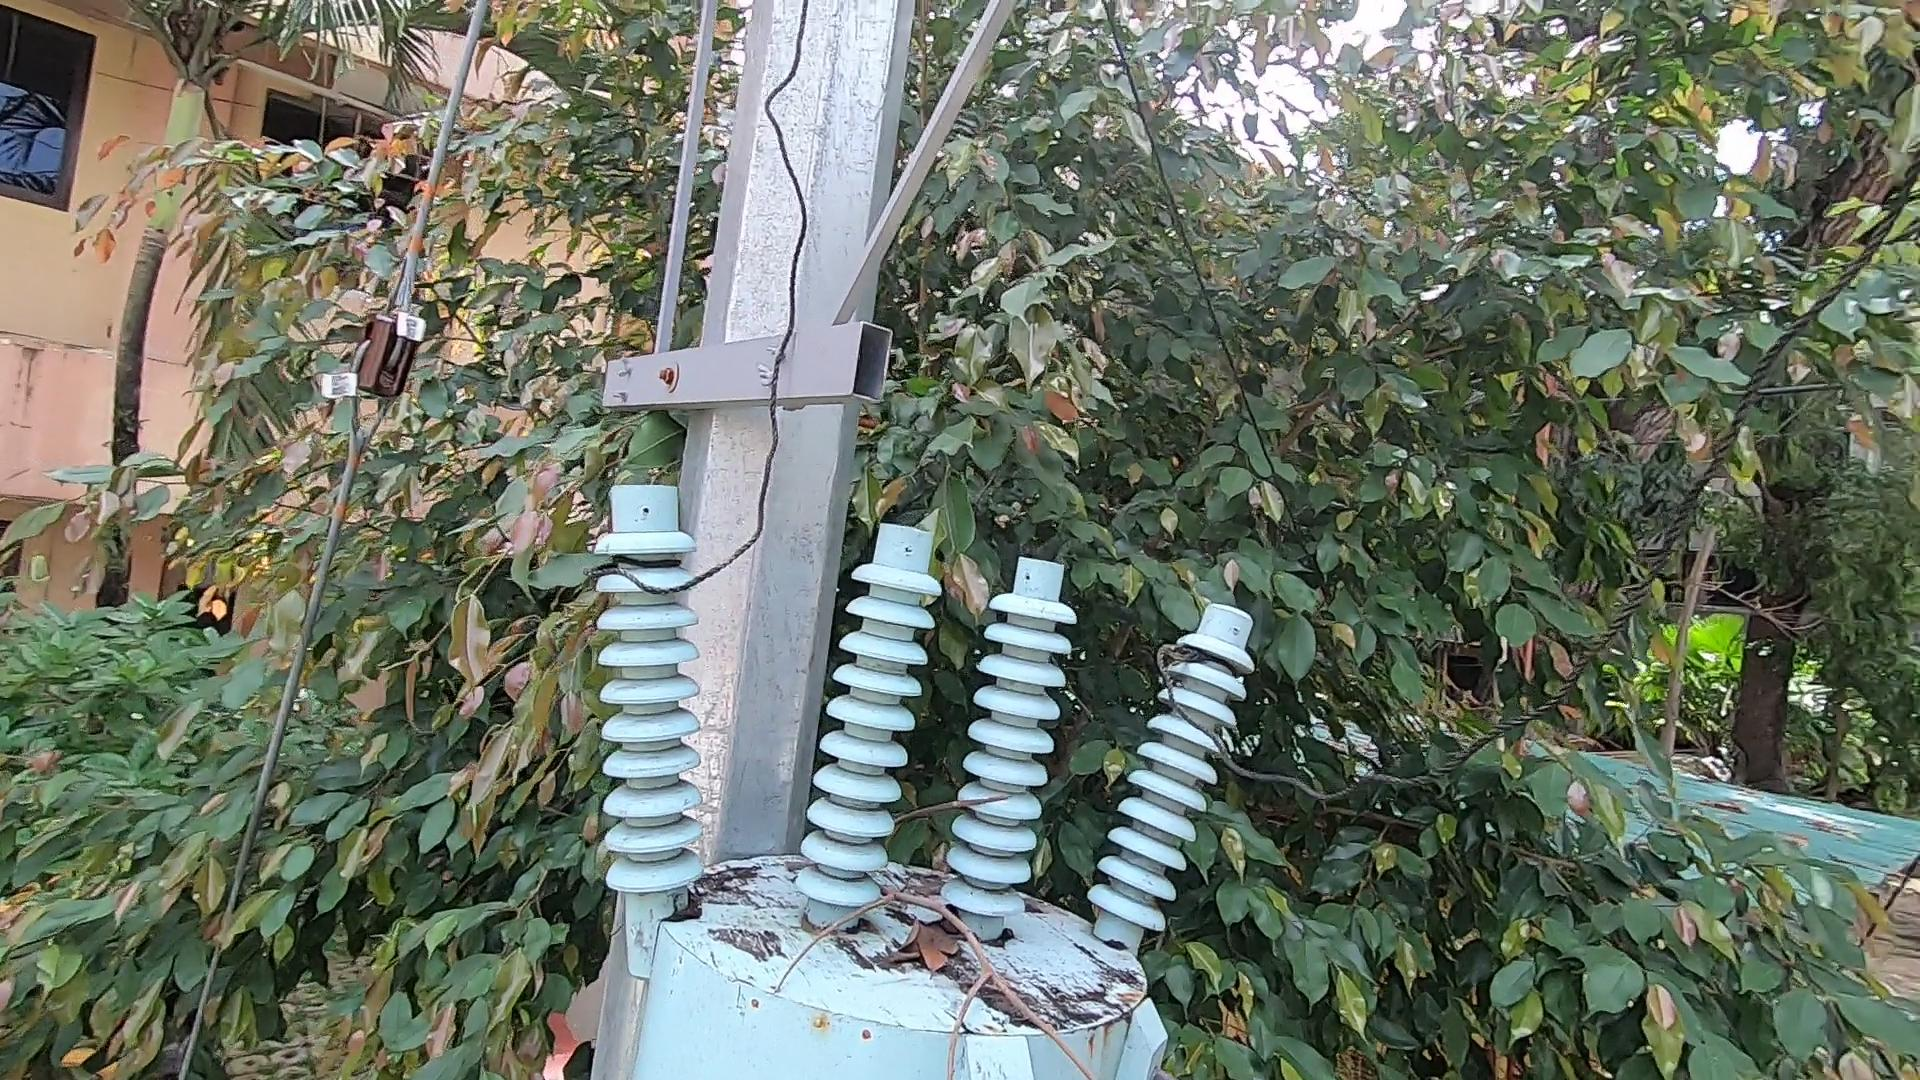leaf: (861, 905, 975, 973), (654, 882, 713, 935)
tree branch: (764, 835, 1091, 1080)
